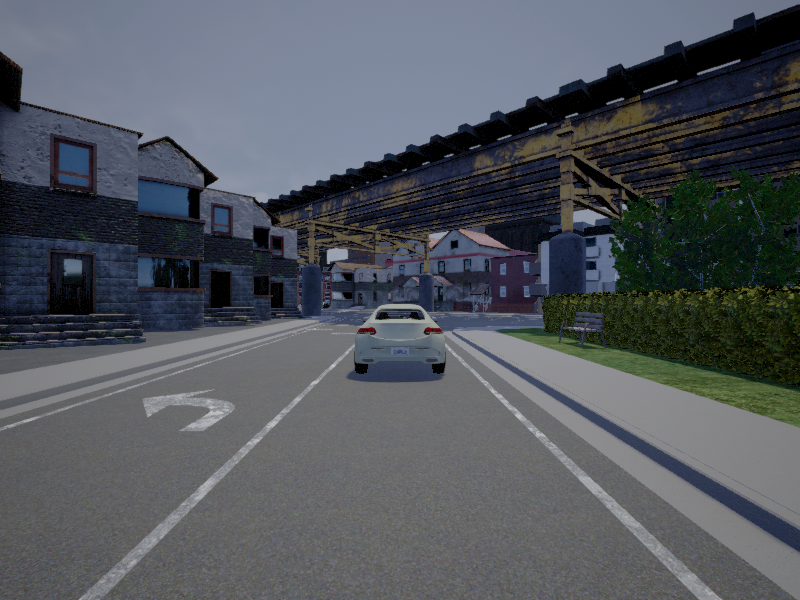Benign: (354, 304, 446, 374)
